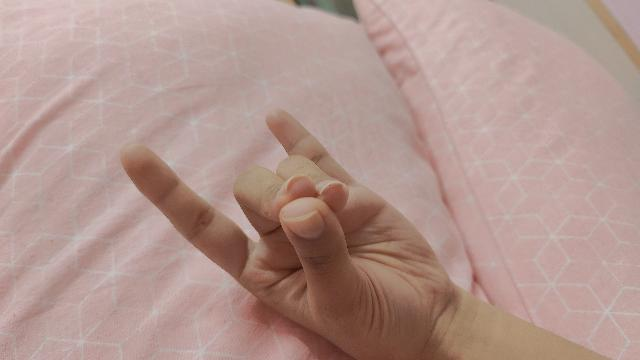sinhamukh: (118, 111, 609, 360)
